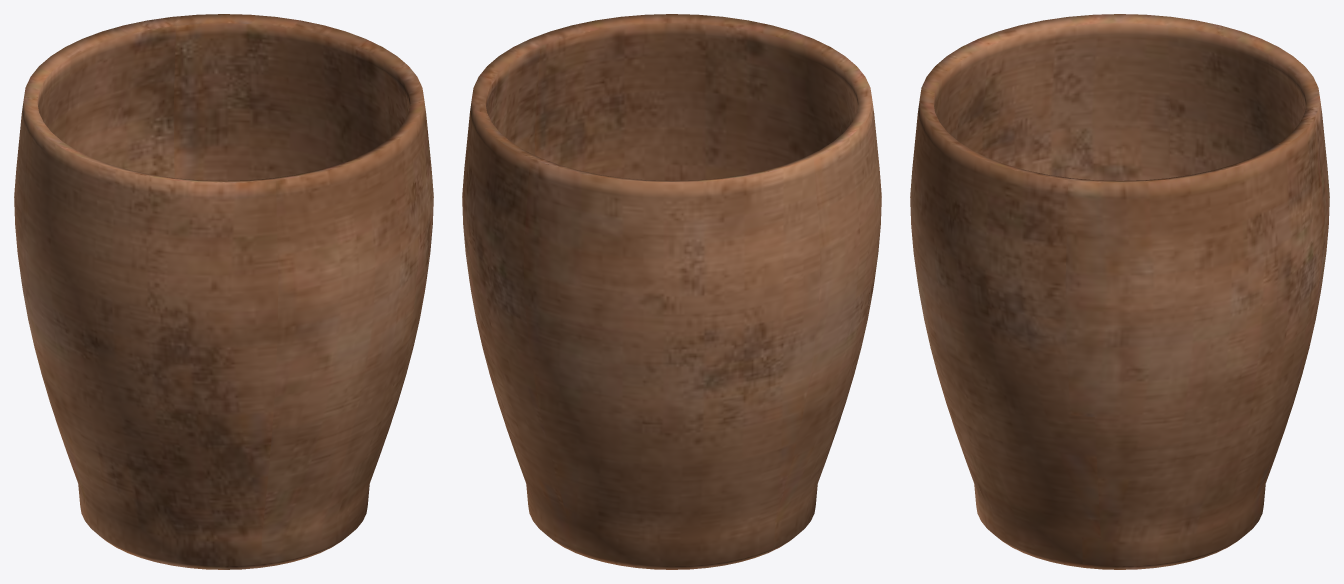
Rendered from pot_tall_web.glb.
3 renders of one model, left to right at view 1: azimuth 30°, elevation 25°; view 2: azimuth 150°, elevation 25°; view 3: azimuth 270°, elevation 25°, orthographic.
Visible parts, largest first — view 1: PotTall_Mesh; view 2: PotTall_Mesh; view 3: PotTall_Mesh.
Part boxes in pixels (x1,y1,x2,y2): PotTall_Mesh: [14, 14, 433, 569]; PotTall_Mesh: [462, 14, 881, 569]; PotTall_Mesh: [910, 14, 1329, 569].
Bounding box in the file's own units: 0.216 × 0.235 × 0.216.
1 material, 1 textured.
